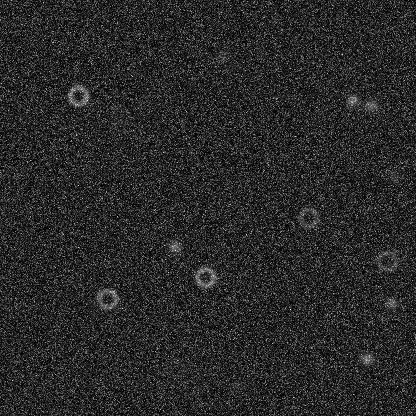Ring: (95, 286, 119, 310), (375, 249, 399, 273), (108, 103, 132, 127), (296, 205, 320, 229), (193, 264, 217, 288), (66, 83, 90, 107), (162, 357, 186, 381)
Spot: (344, 92, 360, 108), (214, 47, 230, 63), (362, 97, 378, 113), (383, 295, 399, 311), (227, 377, 243, 393), (11, 161, 27, 177), (358, 350, 374, 366), (386, 168, 402, 184), (166, 238, 182, 254)
